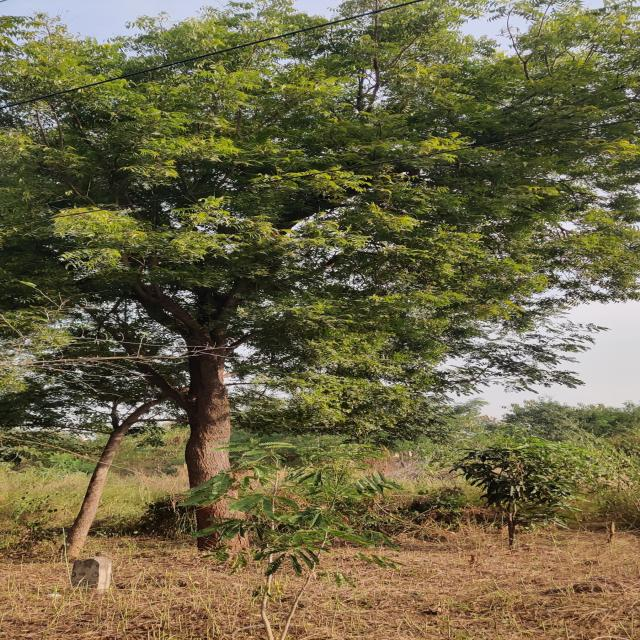Neem Tree: (43, 19, 626, 477)
